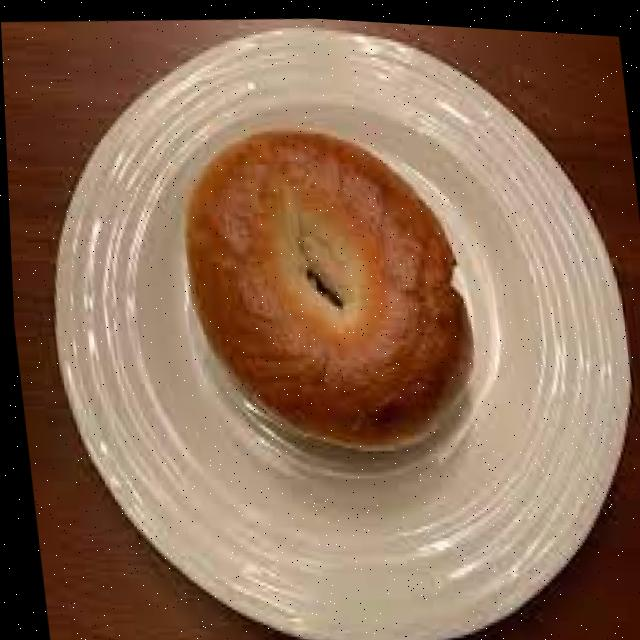Bagel: (184, 129, 467, 441)
